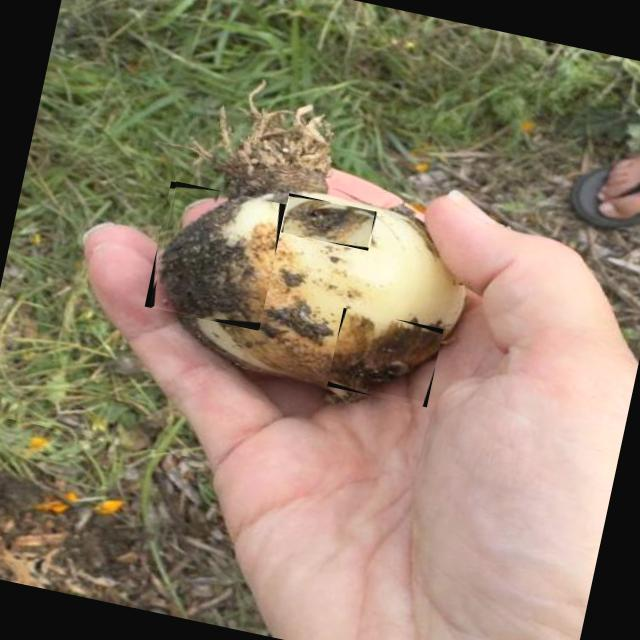mould: (155, 195, 267, 318), (328, 329, 441, 390), (284, 201, 374, 242)
